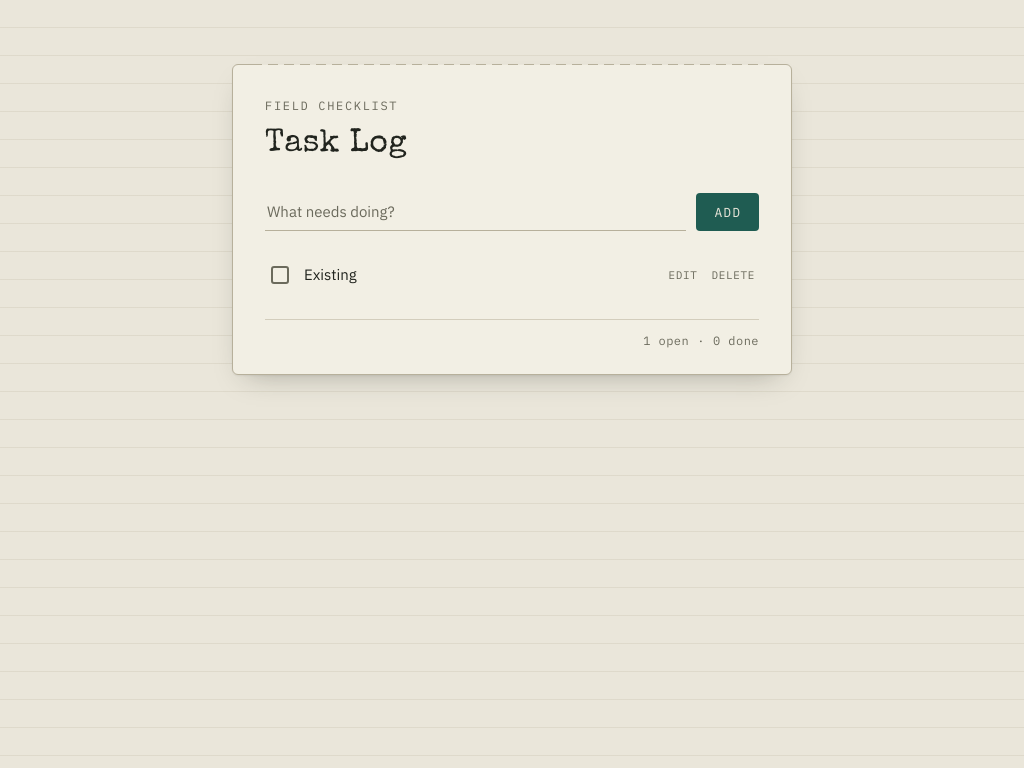
Scenario: App › deletes a todo
The width and height of the screenshot is (1024, 768).
expect the text "Existing" is shown: met, box [304,264,357,286]
Click the button "Delete".
click(733, 275)  # box [709,264,757,286]
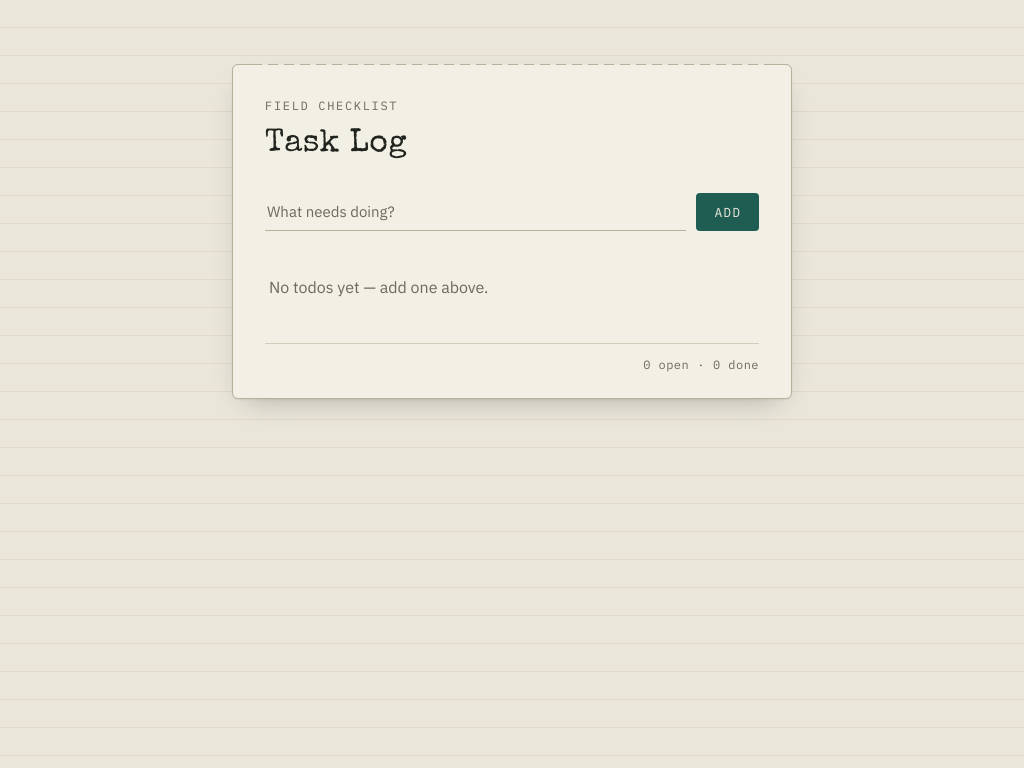
expect the text "Existing" is gone: met
